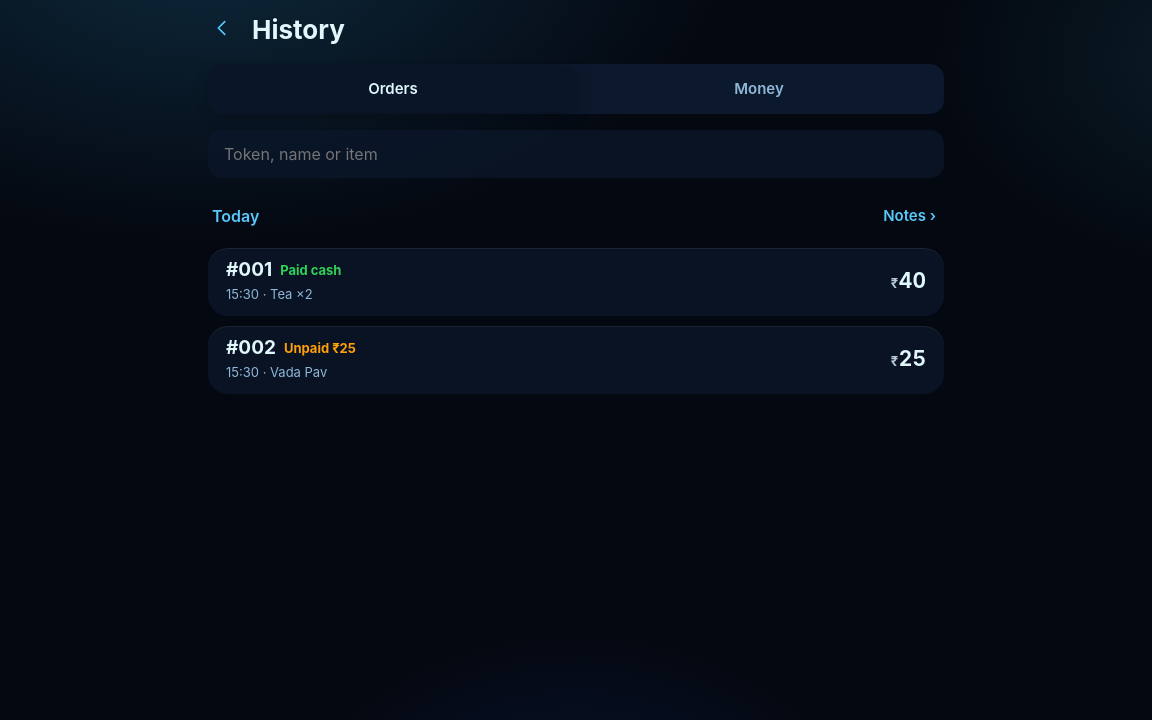
it: History (F-64, F-67) › shows every sent order with its tag; search is on by default and hides when switched off
The image size is (1152, 720).
Later steps or results of the test are not shown.
Expected: the text "#001" is shown, [226, 259, 272, 281]
Expected: the text "Paid cash" is shown, [280, 259, 342, 281]
Type "vada" into the search field named "Search orders" at [576, 154], box [208, 130, 944, 178]
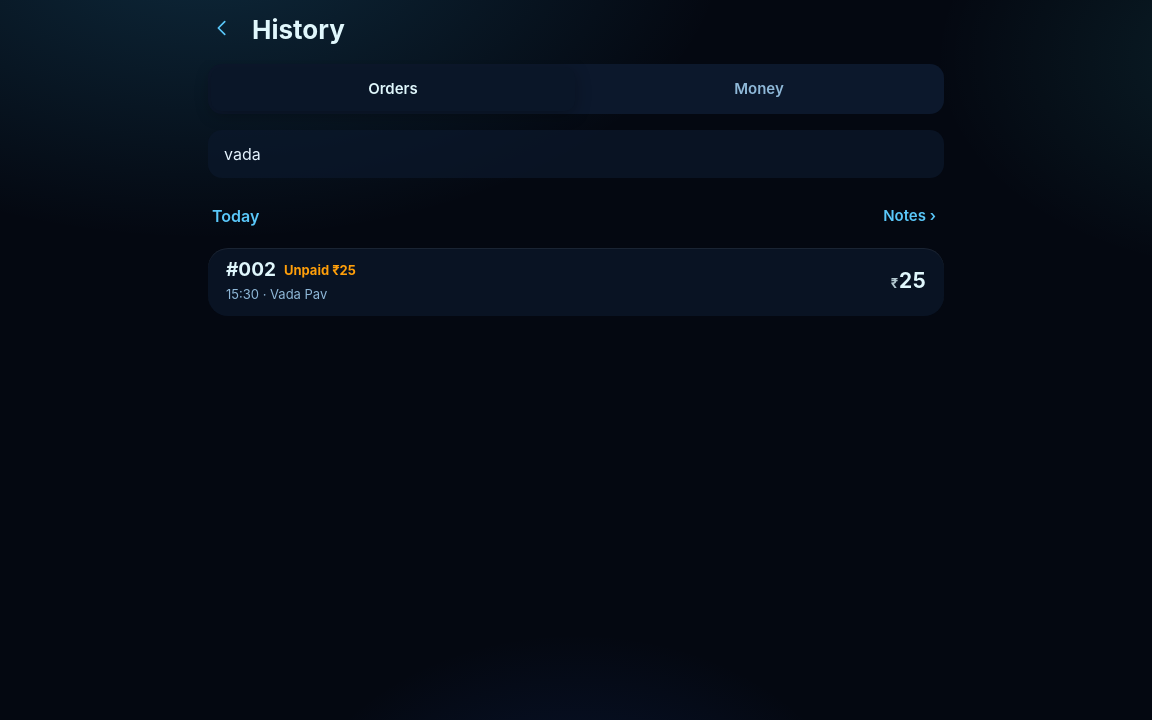
Expected: the text "#002" is shown, [226, 259, 276, 281]
Expected: the button "#001" is gone
